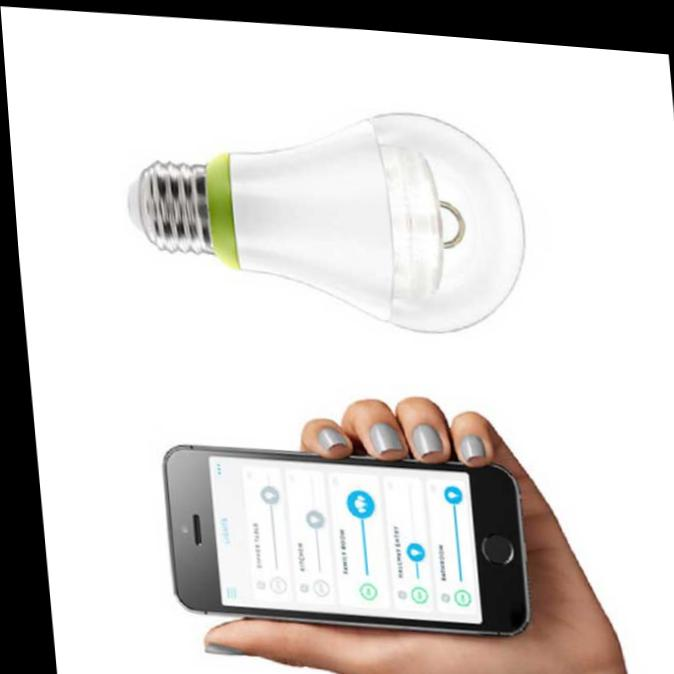Bulb: (109, 67, 550, 349)
